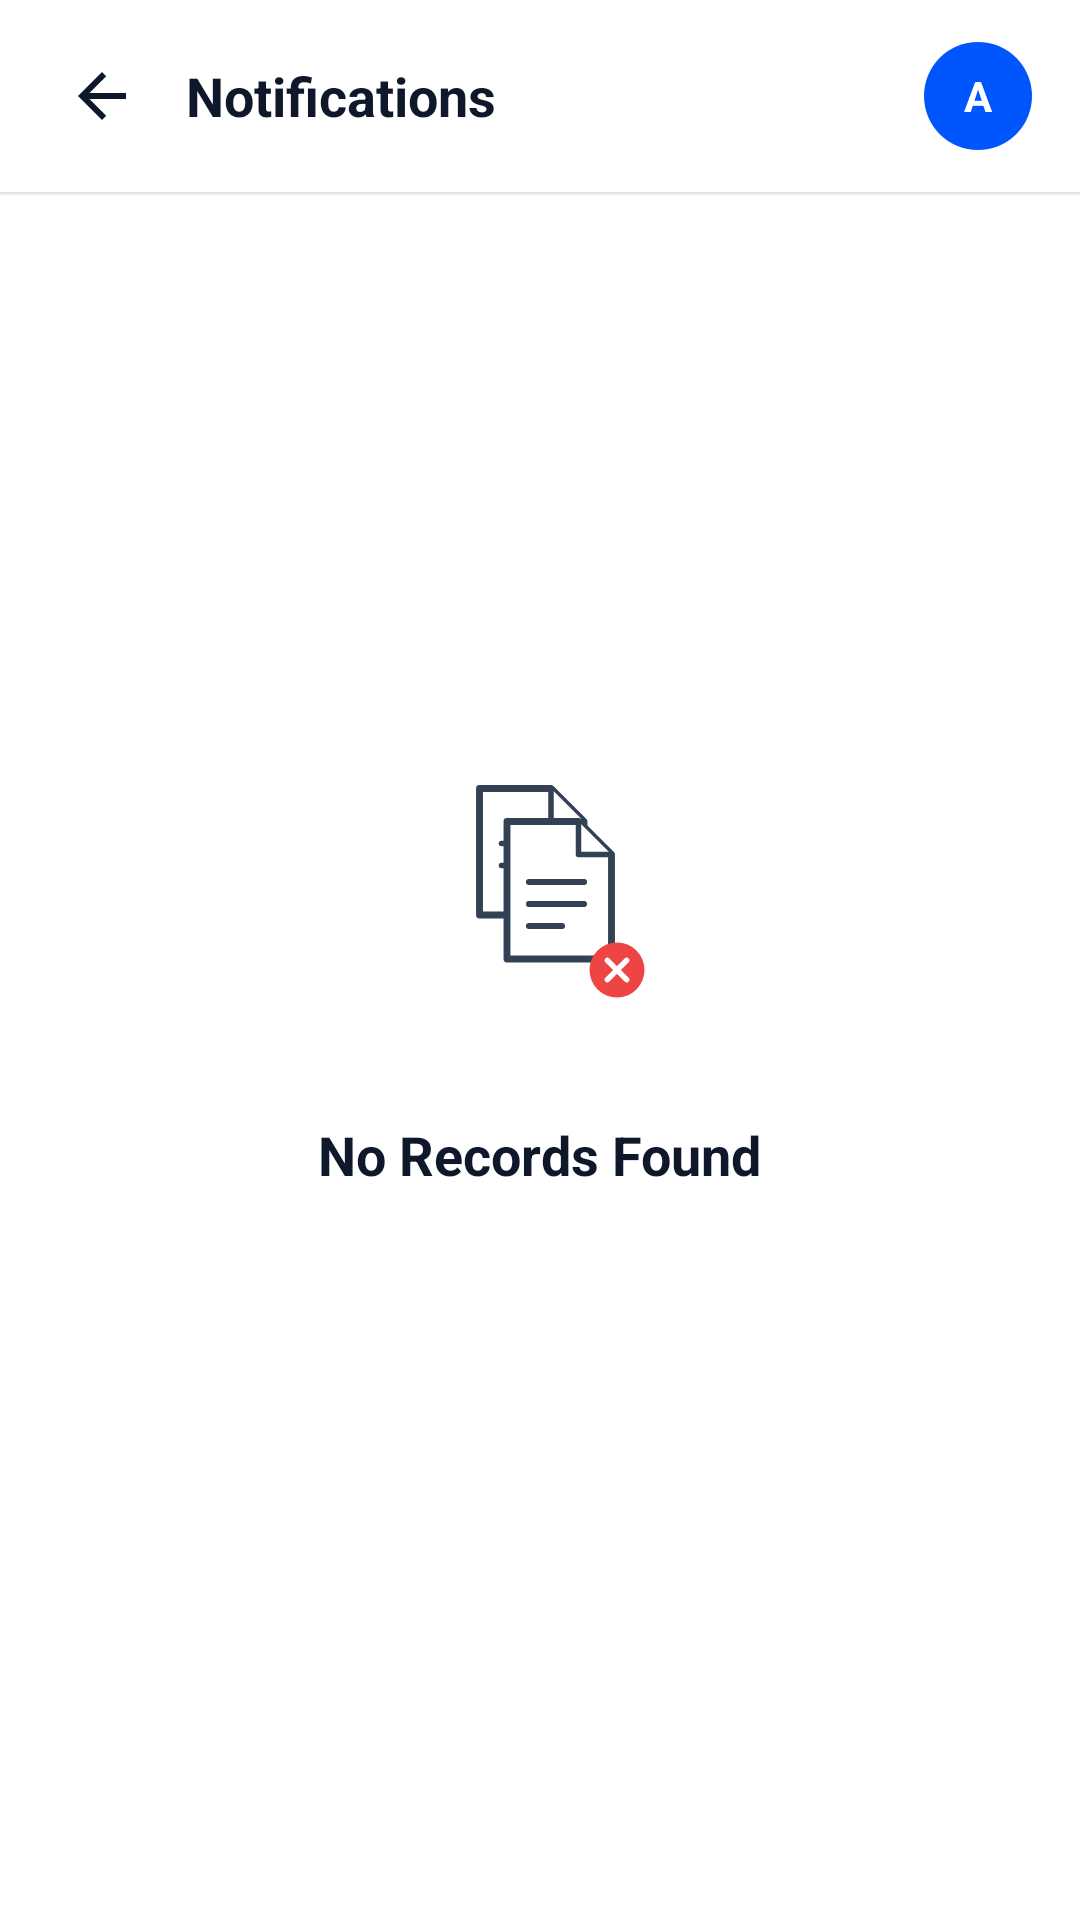

Named icons in this screenshot (1080×1920) and their centers, [x,y]:
arrow back: [102,96]
empty notifications: [560,891]
